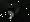person: (10, 5, 20, 19)
